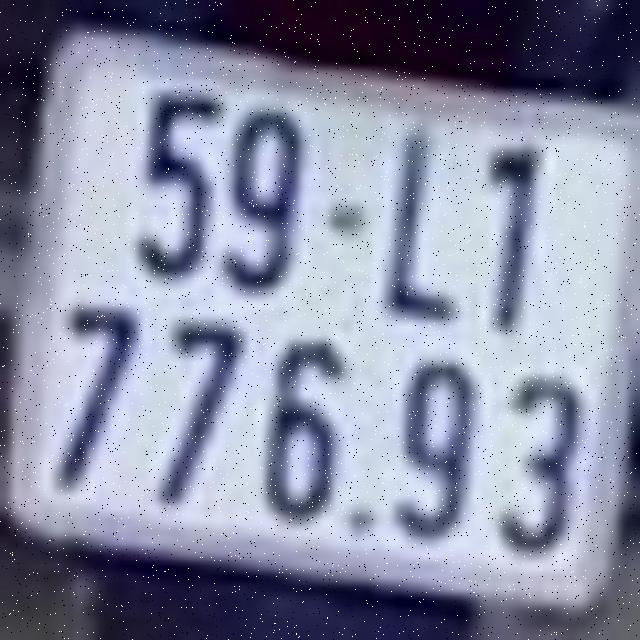1: (476, 138, 546, 334)
3: (500, 366, 580, 555)
5: (133, 81, 220, 280)
6: (266, 331, 342, 524)
7: (49, 298, 140, 497), (156, 313, 246, 511)
9: (224, 98, 303, 294), (394, 349, 474, 541)
L: (379, 115, 462, 326)
